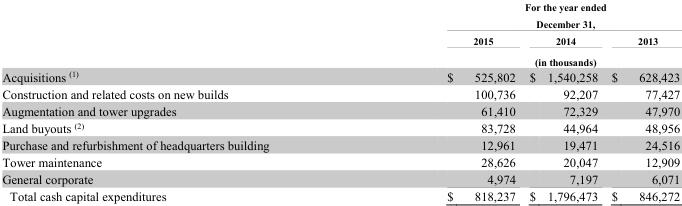table: (1, 0, 679, 203)
table column: (1, 0, 357, 203), (357, 0, 521, 203), (521, 0, 604, 203), (604, 0, 679, 203)
table column header: (1, 0, 679, 68)
table row: (1, 0, 679, 31), (1, 31, 679, 50), (1, 50, 679, 68), (1, 68, 679, 85), (1, 85, 679, 102), (1, 102, 679, 119), (1, 119, 679, 136), (1, 136, 679, 153), (1, 153, 679, 170), (1, 170, 679, 187), (1, 187, 679, 203)
table spanning cell: (357, 0, 679, 31), (357, 50, 679, 68)
